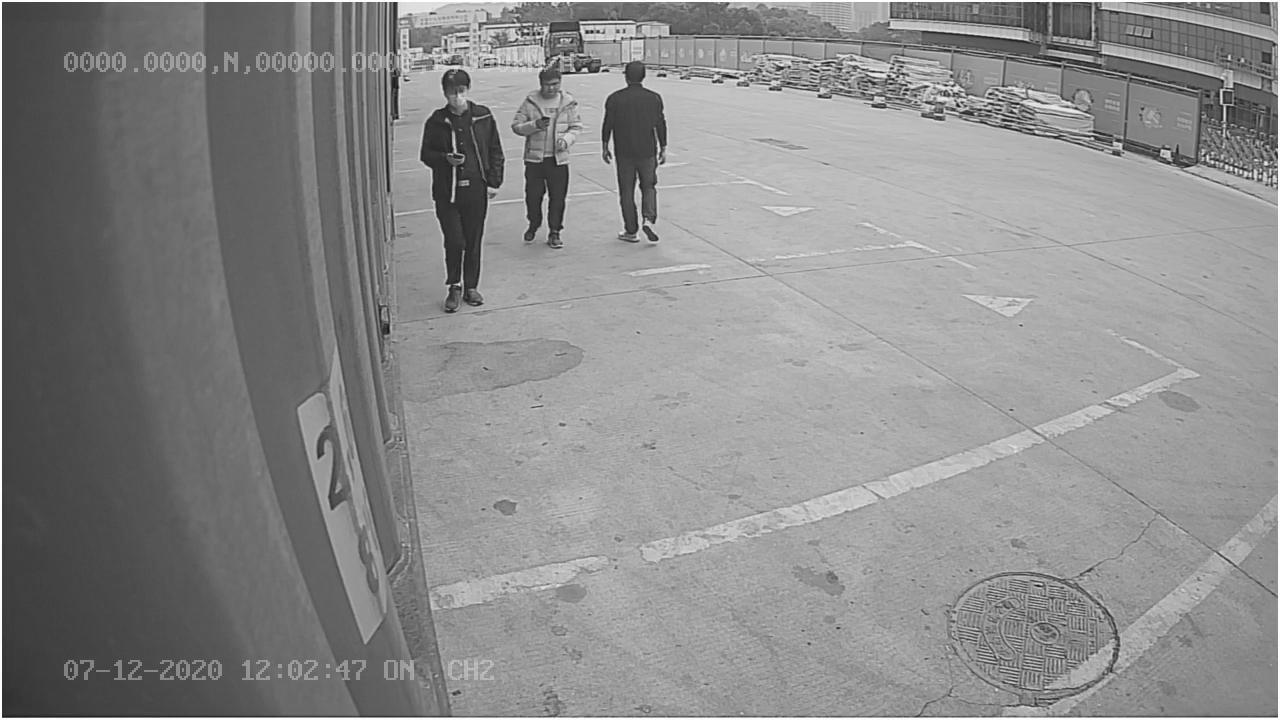person: (420, 64, 505, 319)
